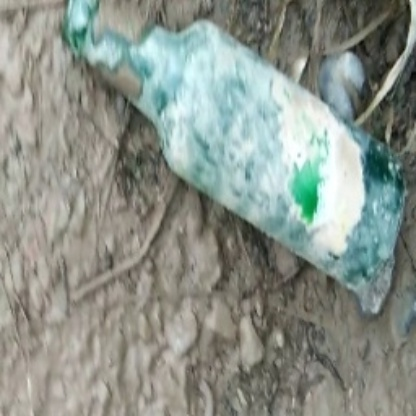bottle: (68, 7, 412, 309)
